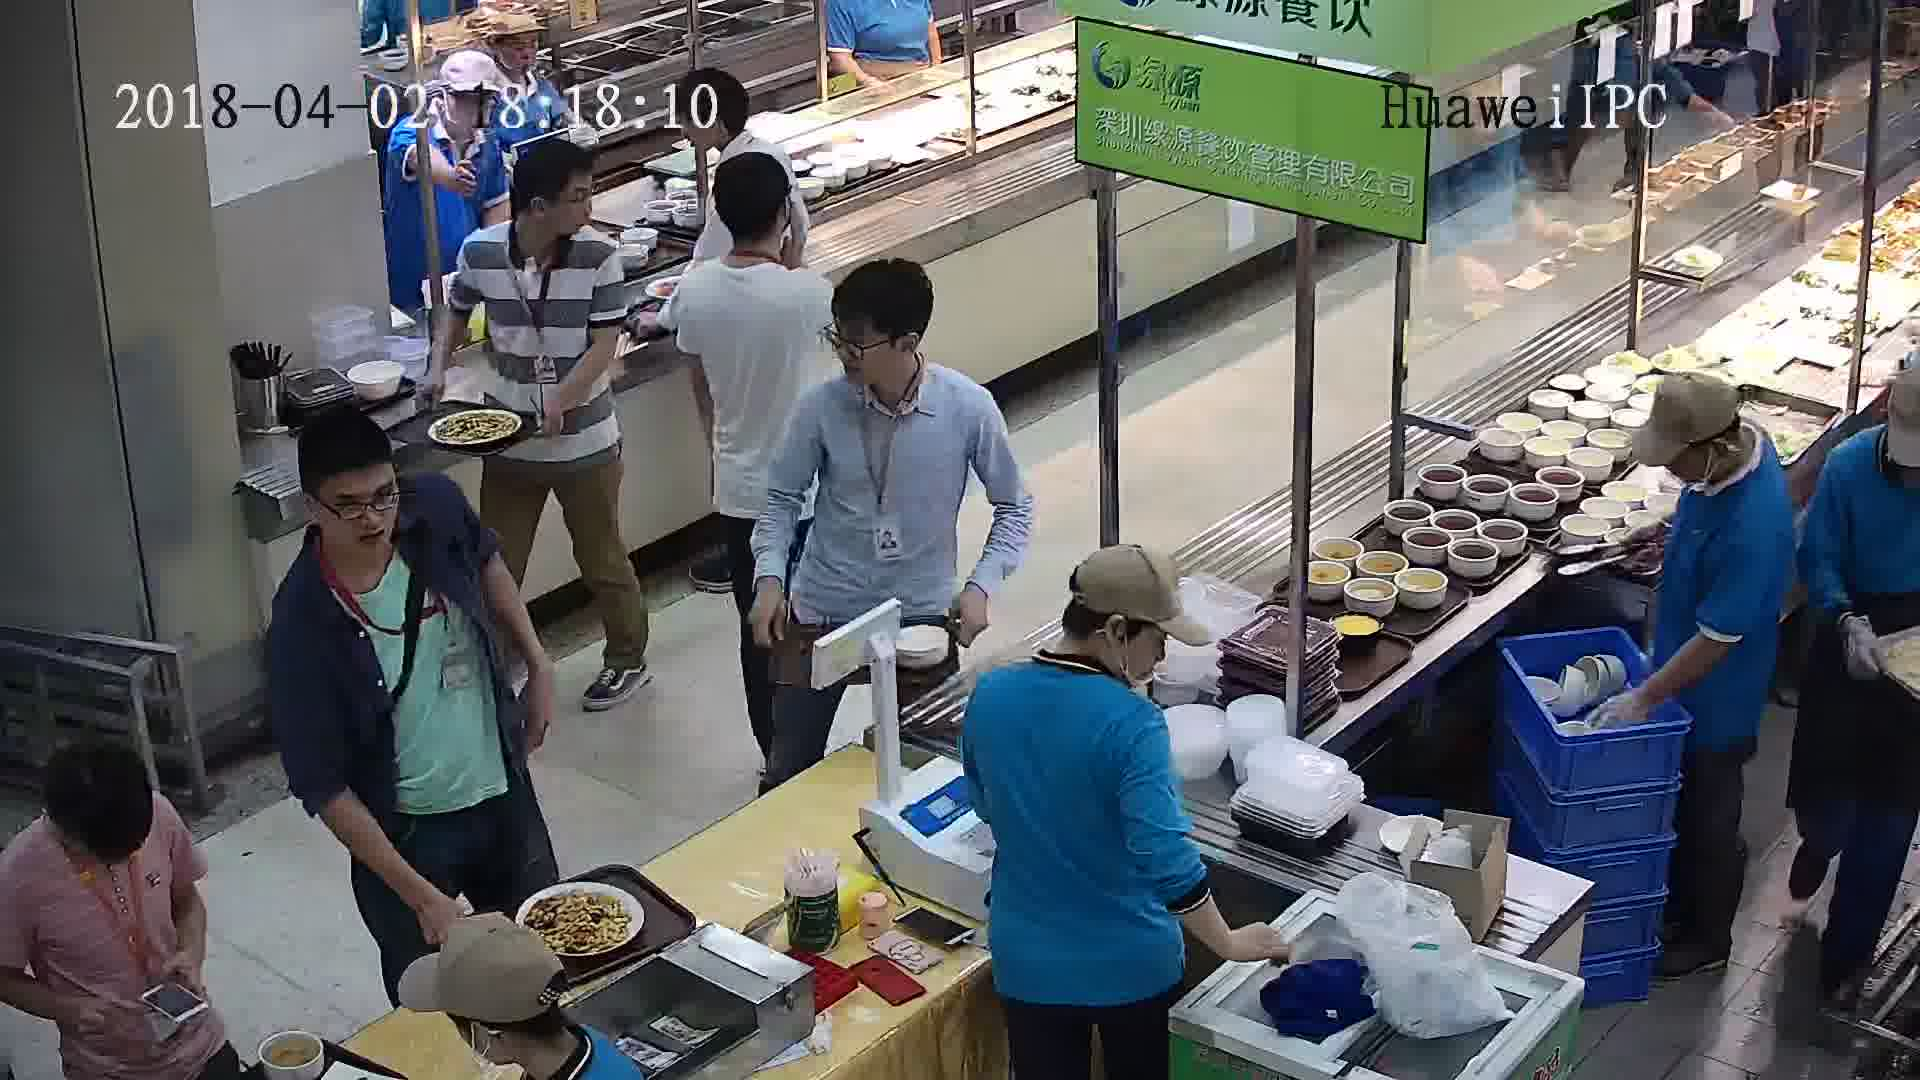face: (313, 464, 402, 553), (830, 313, 903, 386), (535, 164, 604, 233)
person: (259, 405, 472, 657), (963, 543, 1183, 759), (788, 253, 1004, 456), (391, 909, 642, 1077), (1615, 356, 1797, 573), (1, 731, 195, 911), (667, 153, 827, 348), (450, 141, 616, 287), (1818, 347, 1920, 517), (667, 65, 791, 198), (394, 49, 509, 173), (474, 23, 559, 117)
